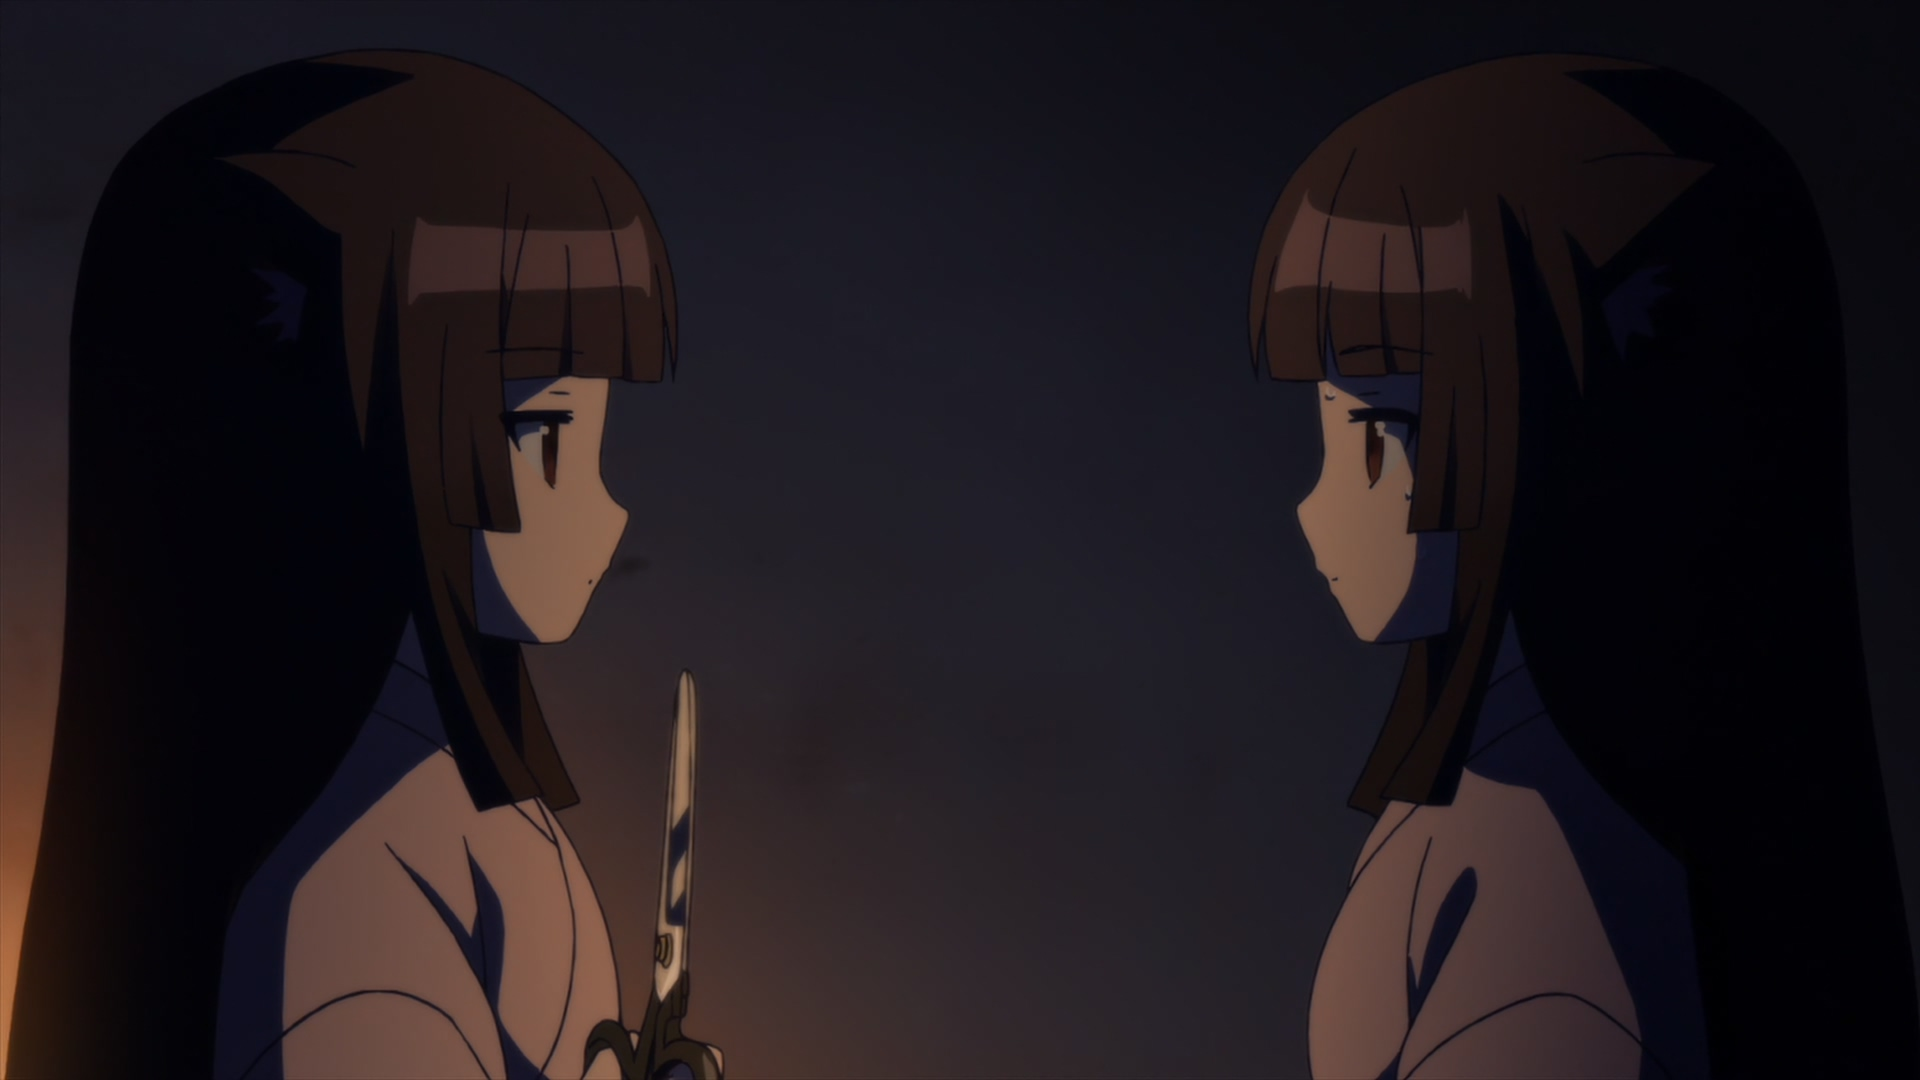樱: (5, 51, 680, 1080), (1249, 55, 1920, 1080)
